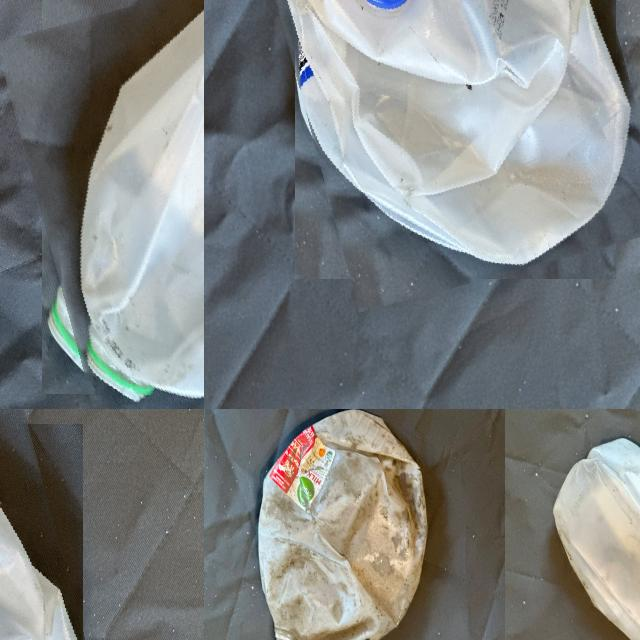milk-jug: (268, 0, 640, 295), (19, 0, 204, 409), (256, 409, 428, 640), (0, 409, 109, 640), (550, 434, 640, 640)
